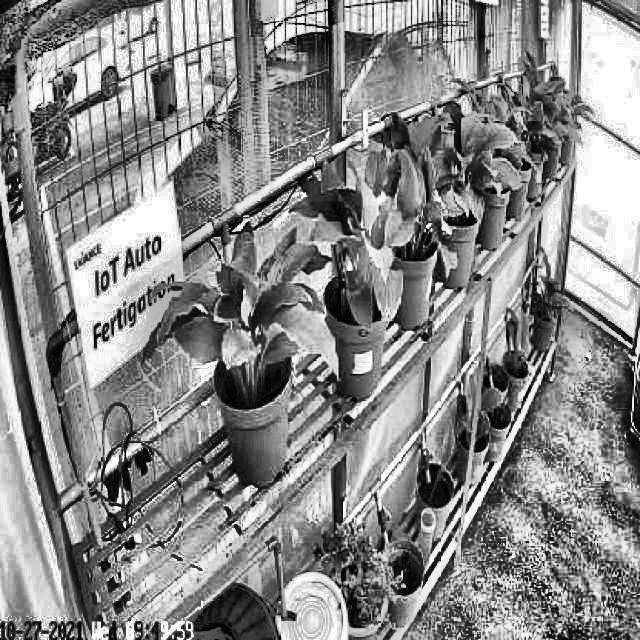plants: (143, 216, 340, 399), (293, 159, 404, 330), (368, 109, 459, 280), (430, 90, 519, 230)
